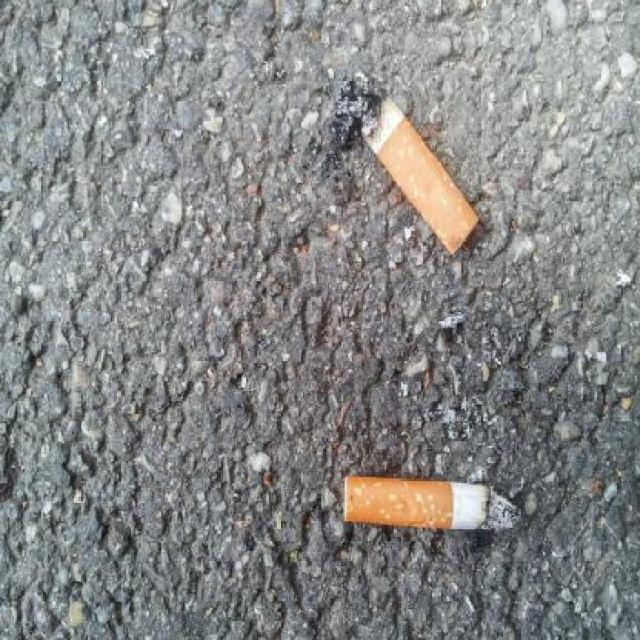cigarette: (342, 94, 522, 275), (323, 442, 580, 526)
